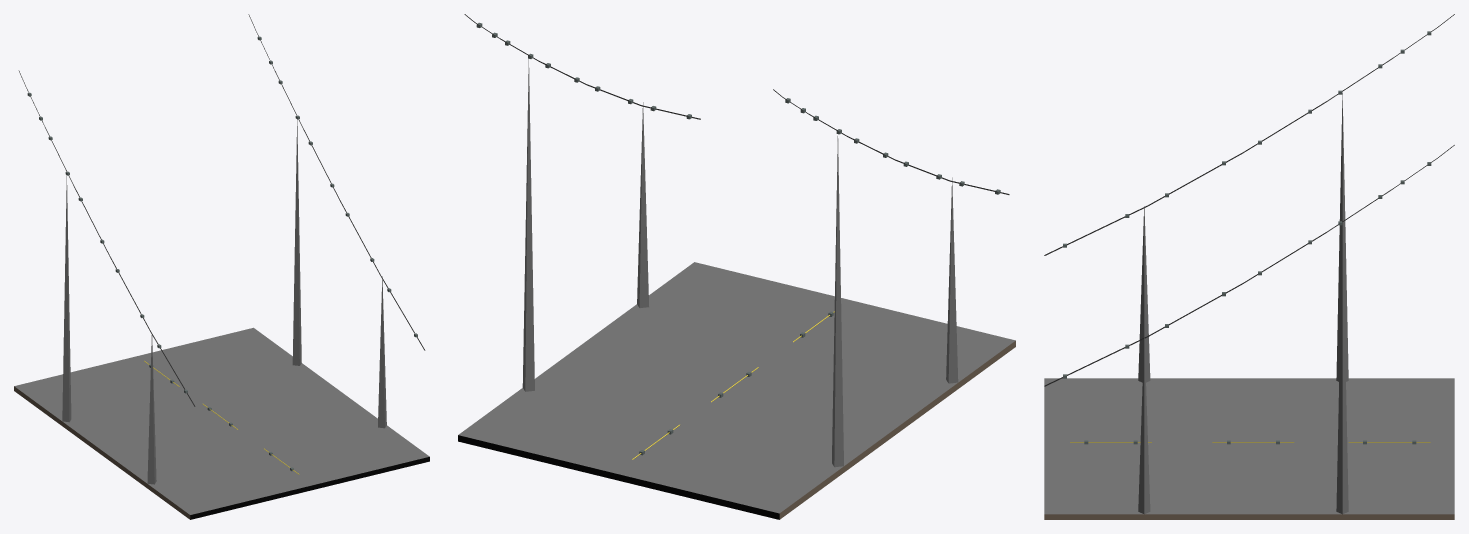
3 views of the same model, side by side, from view 1: azimuth 30°, elevation 25°; view 2: azimuth 150°, elevation 25°; view 3: azimuth 270°, elevation 25° (orthographic). The views are drawn at different scales.
Parts seen in each view (by area): view 1: BR84 | archived geometry, BR84 | line, light and sprite surfaces; view 2: BR84 | archived geometry, BR84 | line, light and sprite surfaces, Fitted street and landscape details; view 3: BR84 | archived geometry, BR84 | line, light and sprite surfaces, Fitted street and landscape details.
Boxes of the visible parts, <box> form: BR84 | archived geometry: <box>14,119,429,519</box>; BR84 | line, light and sprite surfaces: <box>18,14,425,474</box>; BR84 | archived geometry: <box>458,57,1015,519</box>; BR84 | line, light and sprite surfaces: <box>464,14,1009,459</box>; Fitted street and landscape details: <box>476,22,1000,455</box>; BR84 | archived geometry: <box>1044,93,1454,519</box>; BR84 | line, light and sprite surfaces: <box>1044,14,1454,442</box>; Fitted street and landscape details: <box>1063,31,1431,444</box>.
Size of the model in its own units: 13 by 16.58 by 16.58.
